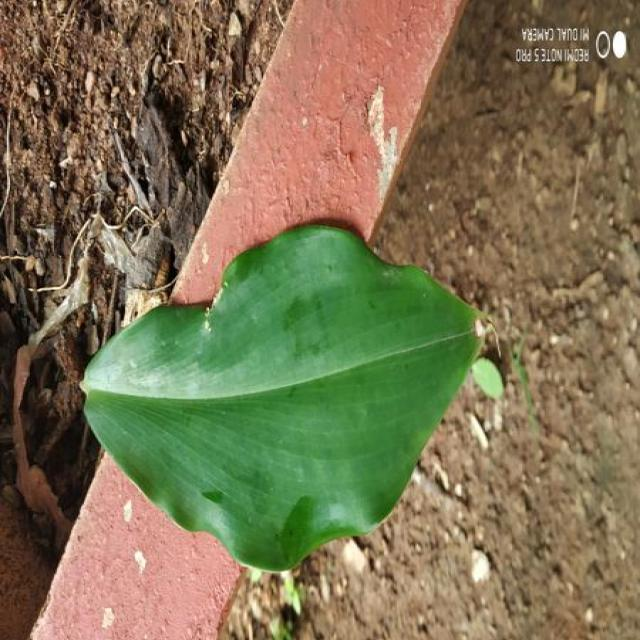insulin: (83, 225, 480, 571)
